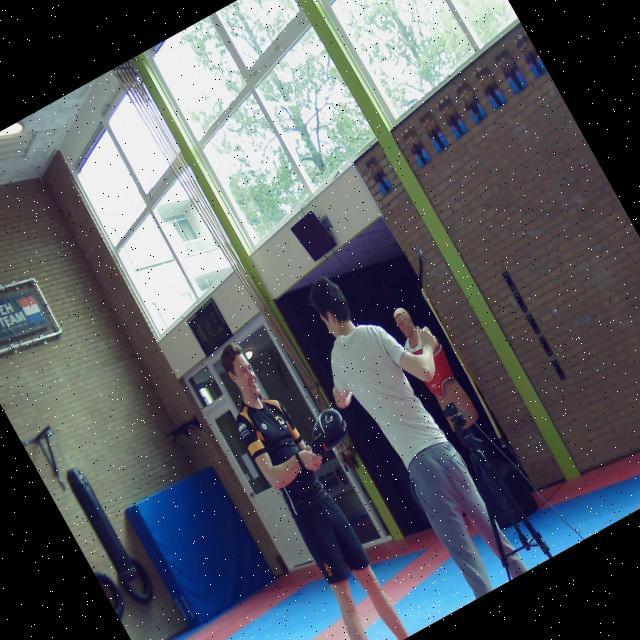paddle: (311, 408, 348, 456)
